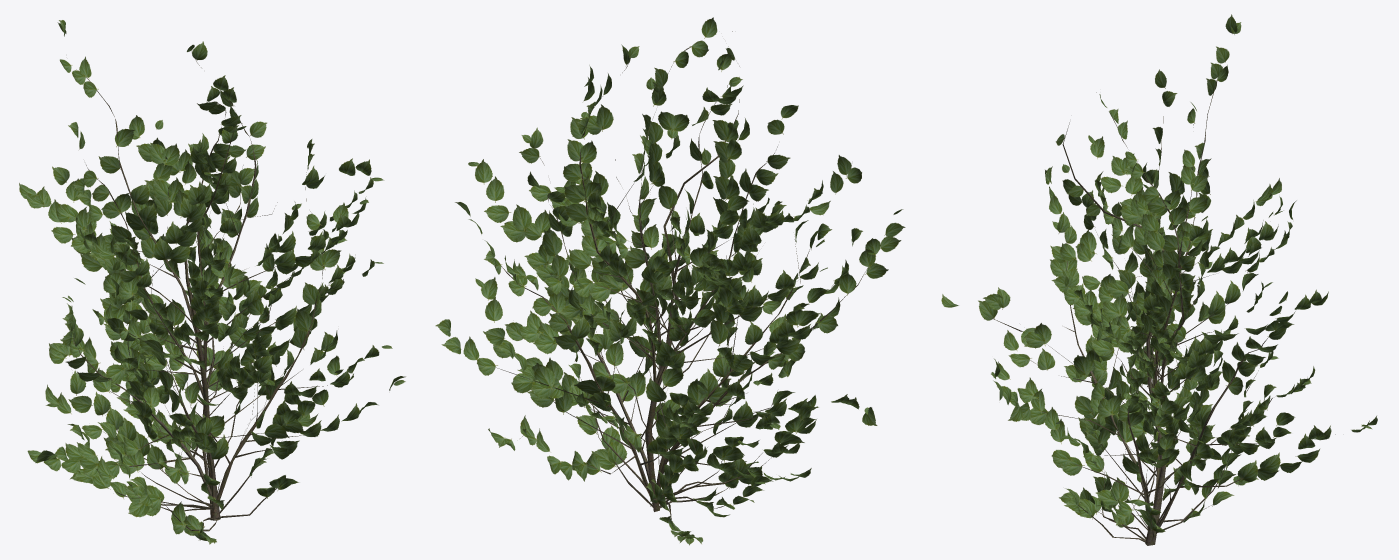
The model's file is green_shrub.glb.
The picture shows the model from 3 angles, left to right: view 1: azimuth 30°, elevation 25°; view 2: azimuth 150°, elevation 25°; view 3: azimuth 270°, elevation 25°; orthographic projection. The views are drawn at different scales.
Visible parts, largest first — view 1: bark_01_largeF_w; view 2: bark_01_largeF_w; view 3: bark_01_largeF_w.
Part boxes in pixels (x1=…): bark_01_largeF_w: x1=19, y1=20, x2=405, y2=544; bark_01_largeF_w: x1=435, y1=17, x2=905, y2=545; bark_01_largeF_w: x1=941, y1=14, x2=1377, y2=545.
Bounding box in the file's own units: 1.4 × 1.78 × 1.5.
2 materials, 2 textured.
